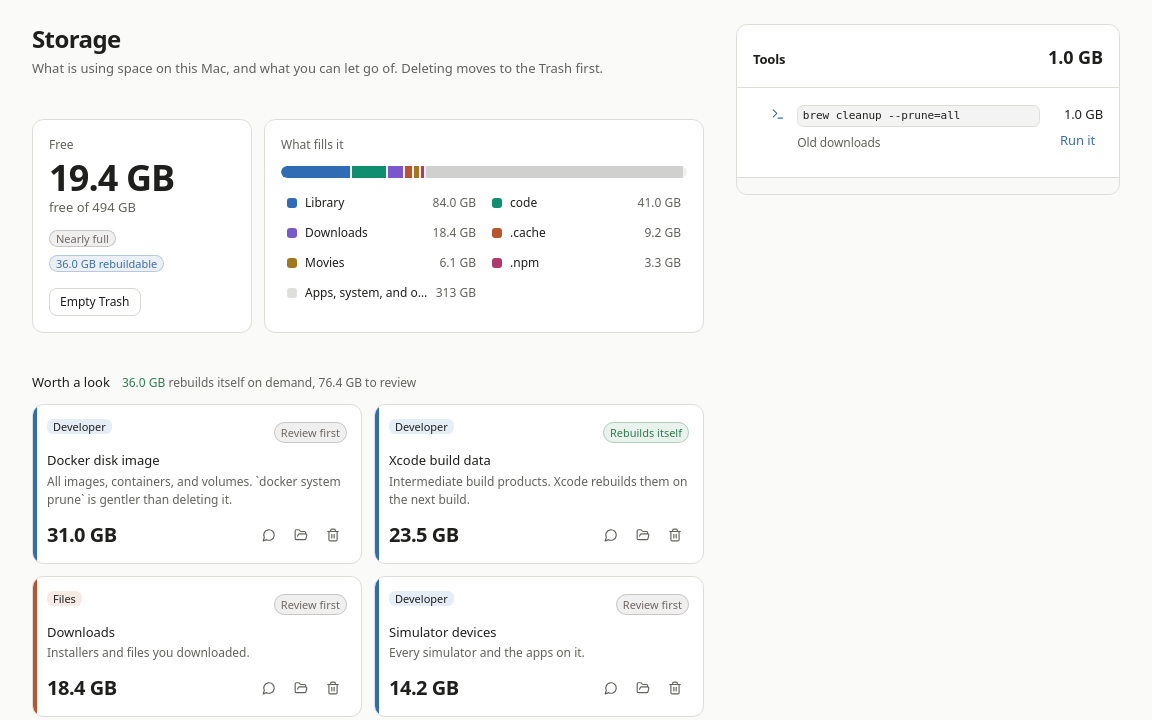
Test: approves a plan's command by replying to the agent
The image size is (1152, 720).
What coordinates should you click on to do the following:
click the button "Run it"
I would click on:
 (1078, 141)
Its box is [1052,129,1103,153].
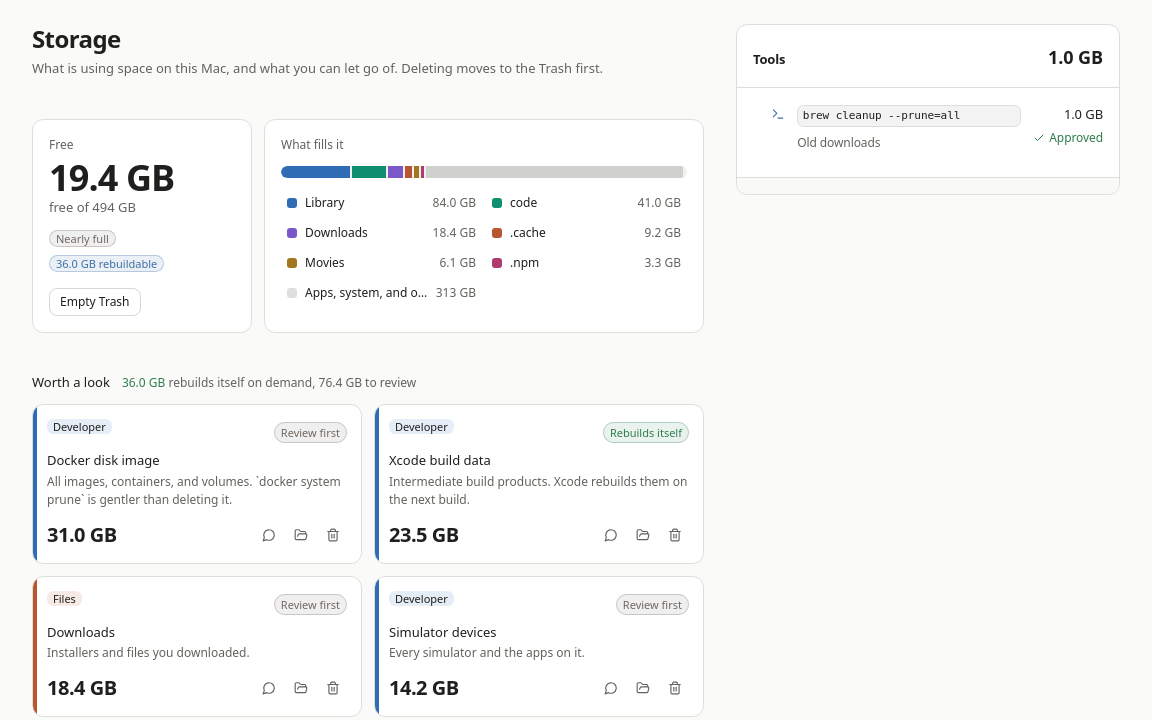
Expected: the text "Approved" is shown, [1033,129,1103,147]
